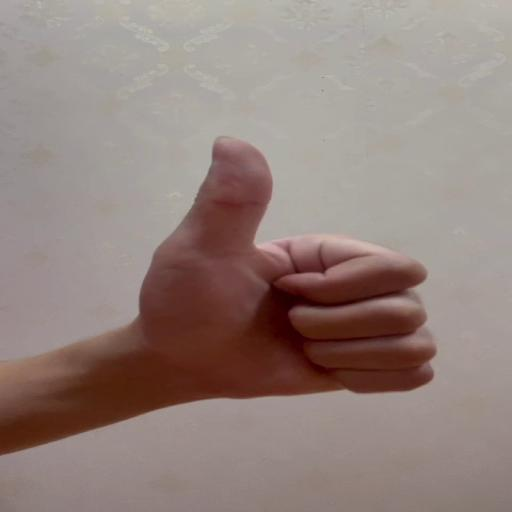thumbs_up: (140, 135, 441, 398)
